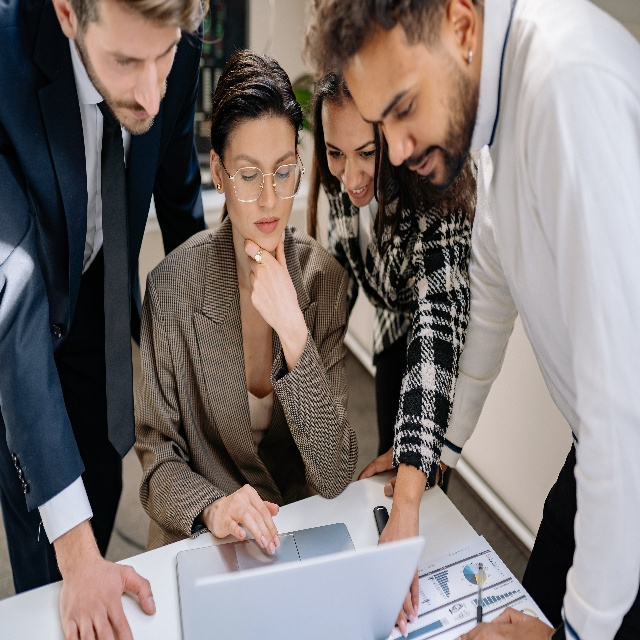Gafas: (218, 149, 305, 203)
Sin_guantes: (60, 555, 155, 640), (245, 229, 300, 339), (377, 504, 420, 638), (203, 484, 280, 556), (454, 606, 553, 640), (356, 444, 398, 498)
